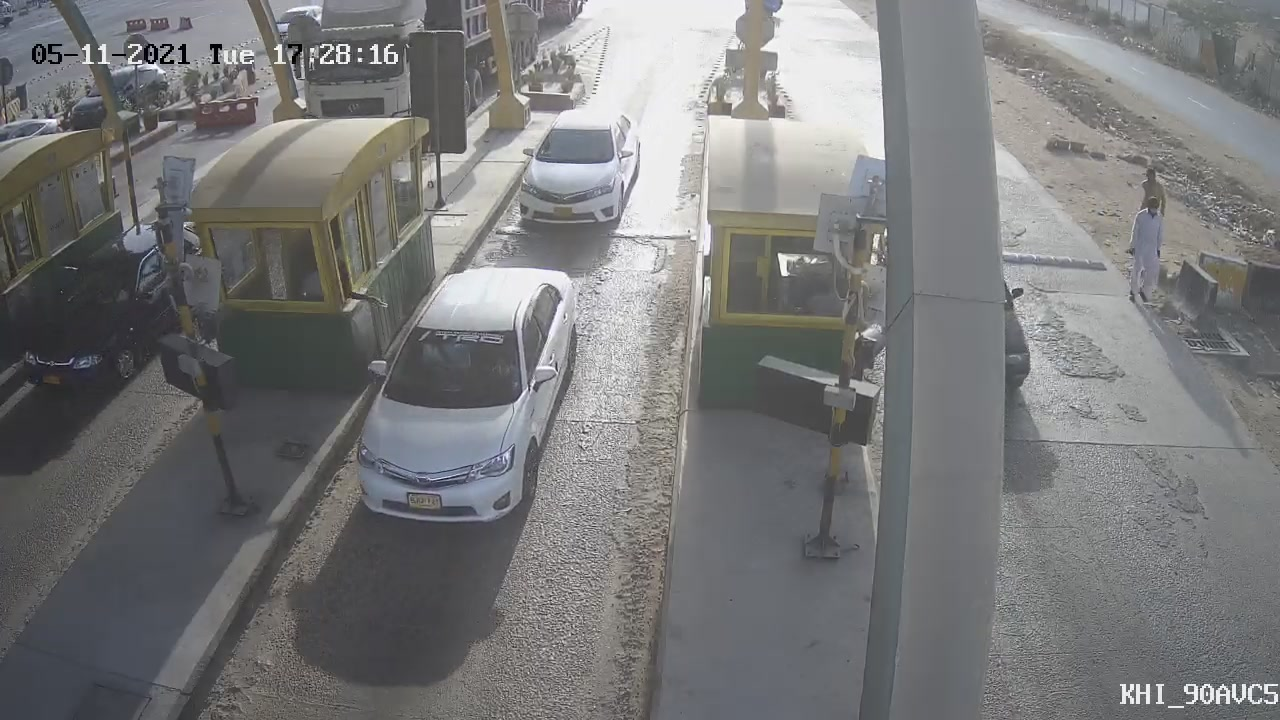F1: (335, 246, 604, 548), (493, 87, 655, 240)
